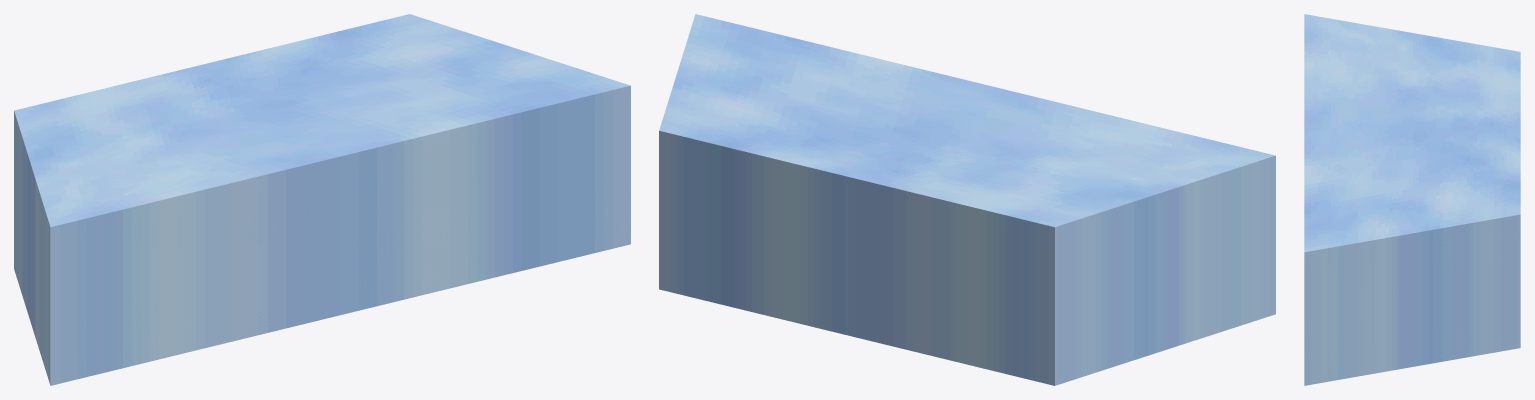
The model's file is ewb_ice_b.glb.
3 renders of one model, left to right at view 1: azimuth 30°, elevation 25°; view 2: azimuth 150°, elevation 25°; view 3: azimuth 270°, elevation 25°, orthographic. The views are drawn at different scales.
Parts seen in each view (by area): view 1: ewb_ice_b; view 2: ewb_ice_b; view 3: ewb_ice_b.
Part boxes in pixels (x1,y1,x2,y2): ewb_ice_b: [14, 14, 630, 385]; ewb_ice_b: [659, 14, 1275, 385]; ewb_ice_b: [1304, 14, 1520, 385].
Bounding box in the file's own units: 14.95 × 3.91 × 5.74.
1 material, 1 textured.
